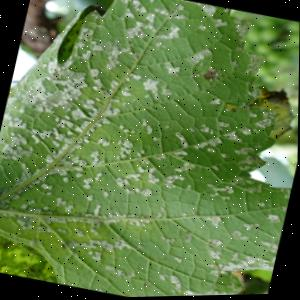Folha: (0, 0, 300, 300)
Fungo: (0, 51, 123, 222), (32, 90, 114, 190), (13, 54, 85, 121), (0, 194, 96, 244), (125, 0, 190, 51), (62, 227, 135, 270), (153, 264, 240, 297), (113, 158, 169, 204), (0, 110, 43, 166), (220, 247, 276, 285), (97, 203, 157, 236), (6, 159, 40, 200), (133, 74, 175, 106), (68, 25, 102, 64), (100, 39, 135, 75), (99, 260, 144, 286), (226, 145, 260, 177), (190, 129, 227, 157), (235, 48, 268, 79), (112, 123, 137, 163), (257, 84, 292, 110), (226, 123, 262, 148), (182, 44, 216, 70), (203, 180, 236, 204), (223, 16, 253, 42), (181, 0, 219, 20), (139, 116, 163, 143), (203, 15, 229, 34), (243, 84, 264, 103), (197, 67, 220, 83), (157, 233, 180, 249), (172, 161, 196, 176), (170, 132, 190, 149), (133, 148, 154, 164), (34, 179, 56, 194), (257, 241, 280, 255), (252, 116, 272, 131), (202, 214, 222, 229), (204, 261, 222, 277), (275, 186, 291, 203), (205, 95, 223, 110), (232, 230, 250, 244), (241, 220, 259, 234), (204, 248, 223, 261), (183, 228, 196, 245), (172, 148, 188, 161), (122, 290, 148, 298), (214, 118, 229, 131), (216, 7, 231, 19), (52, 194, 67, 206), (264, 214, 280, 225), (83, 191, 95, 204), (27, 237, 39, 249), (168, 255, 182, 265), (112, 0, 131, 7), (209, 238, 222, 248), (153, 153, 166, 163), (63, 203, 74, 213), (278, 206, 287, 216), (256, 201, 267, 209), (95, 288, 109, 294)
